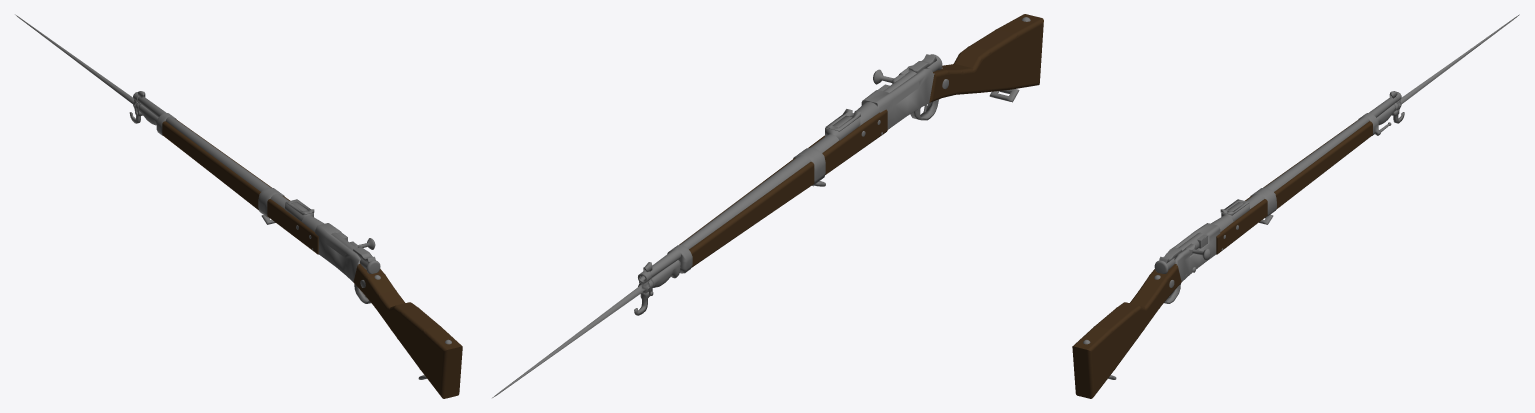
3 views of the same model, side by side, from view 1: azimuth 30°, elevation 25°; view 2: azimuth 150°, elevation 25°; view 3: azimuth 330°, elevation 25° (orthographic). The views are drawn at different scales.
Visible parts, largest first — view 1: Crosse, Canon, object 3; view 2: Crosse, Canon, object 3; view 3: Crosse, Canon, object 3.
Part boxes in pixels (x1,y1,x2,y2): Crosse: (162,119,462,398); Canon: (137,91,451,379); object 3: (15,14,158,125); Crosse: (679,14,1043,267); Canon: (640,17,1030,280); object 3: (492,259,680,397); Crosse: (1072,119,1372,398); Canon: (1083,91,1397,379); object 3: (1377,14,1519,125).
Size of the model in its own units: 0.1059 by 0.2368 by 2.3.
